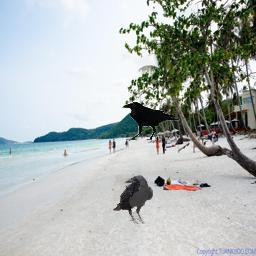Crow: (122, 102, 180, 141), (113, 175, 153, 224)
